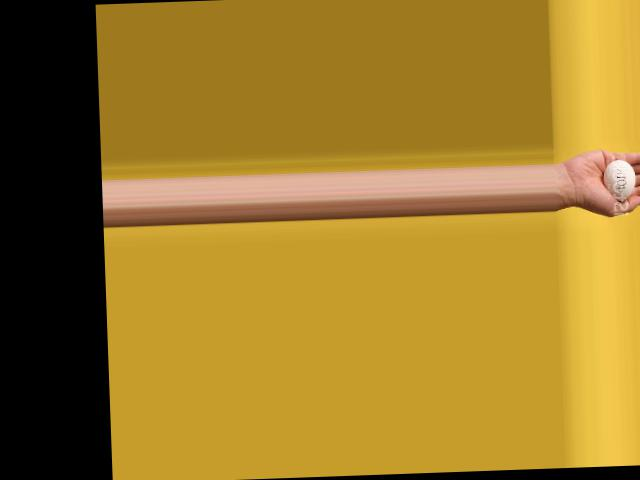egg: (603, 159, 636, 201)
